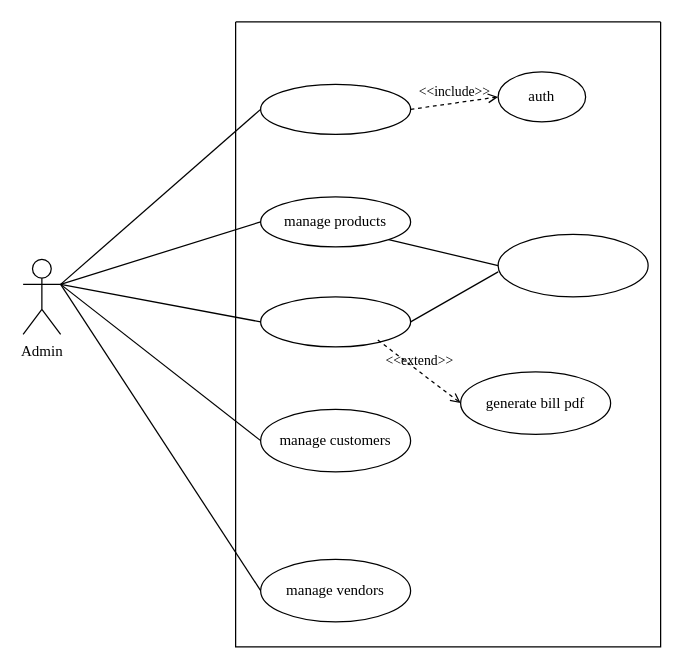
Some shapes in this 683 by 669 pixel diagram are drawn without their labels. Each missing label, with the centre of its shape:
login: pixel 335 108
sales product: pixel 335 321
update products: pixel 572 265
